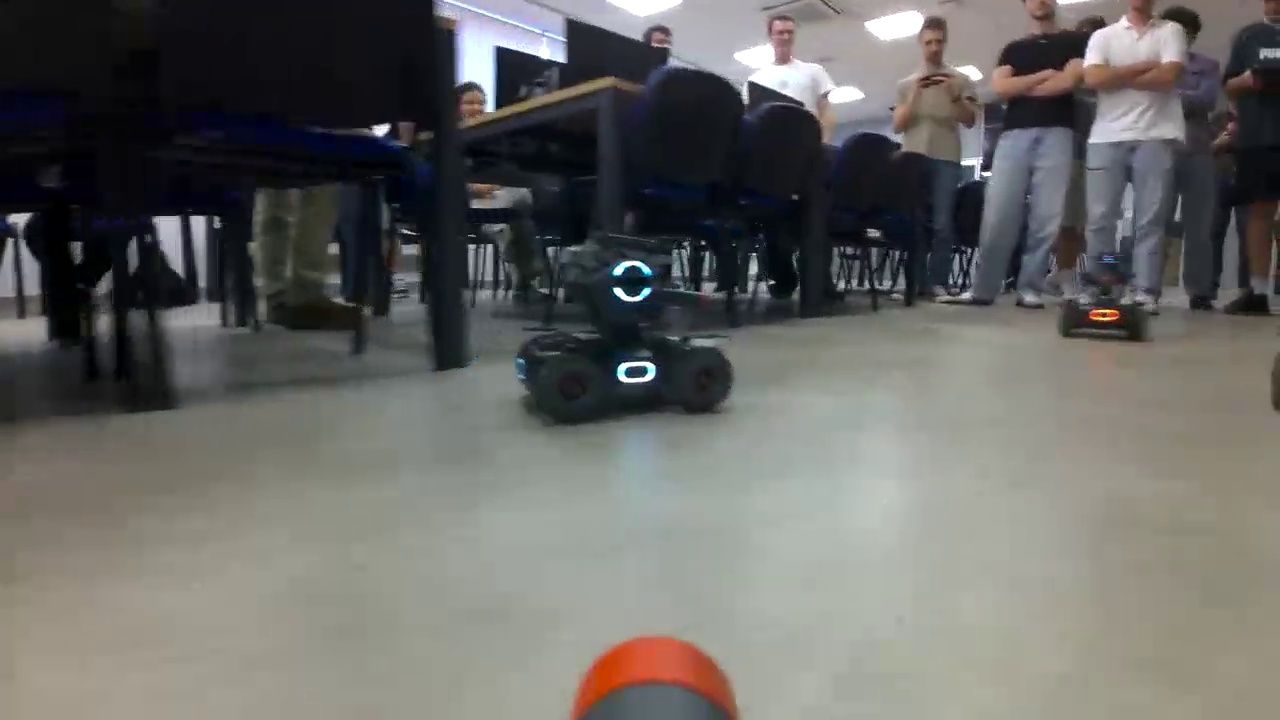robot: (515, 228, 733, 425), (1058, 270, 1150, 340)
